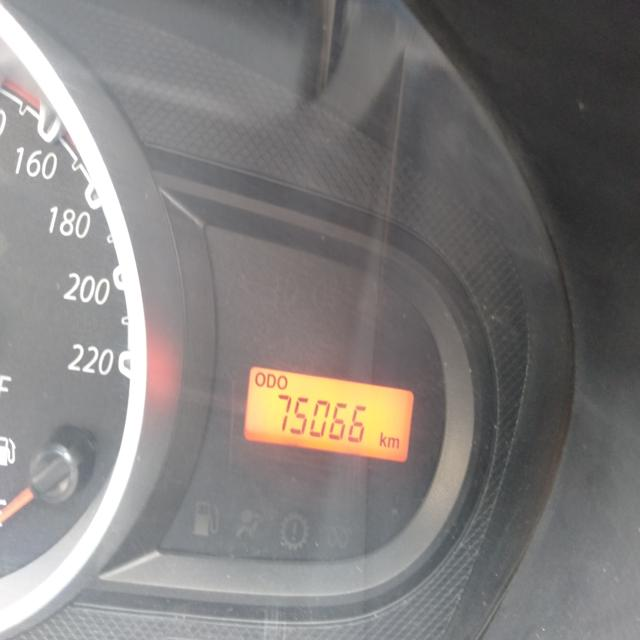odometer: (275, 381, 368, 452)
